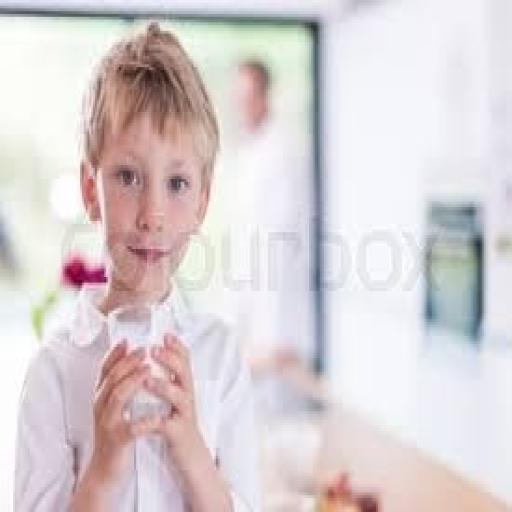drinking: (106, 302, 177, 431)
